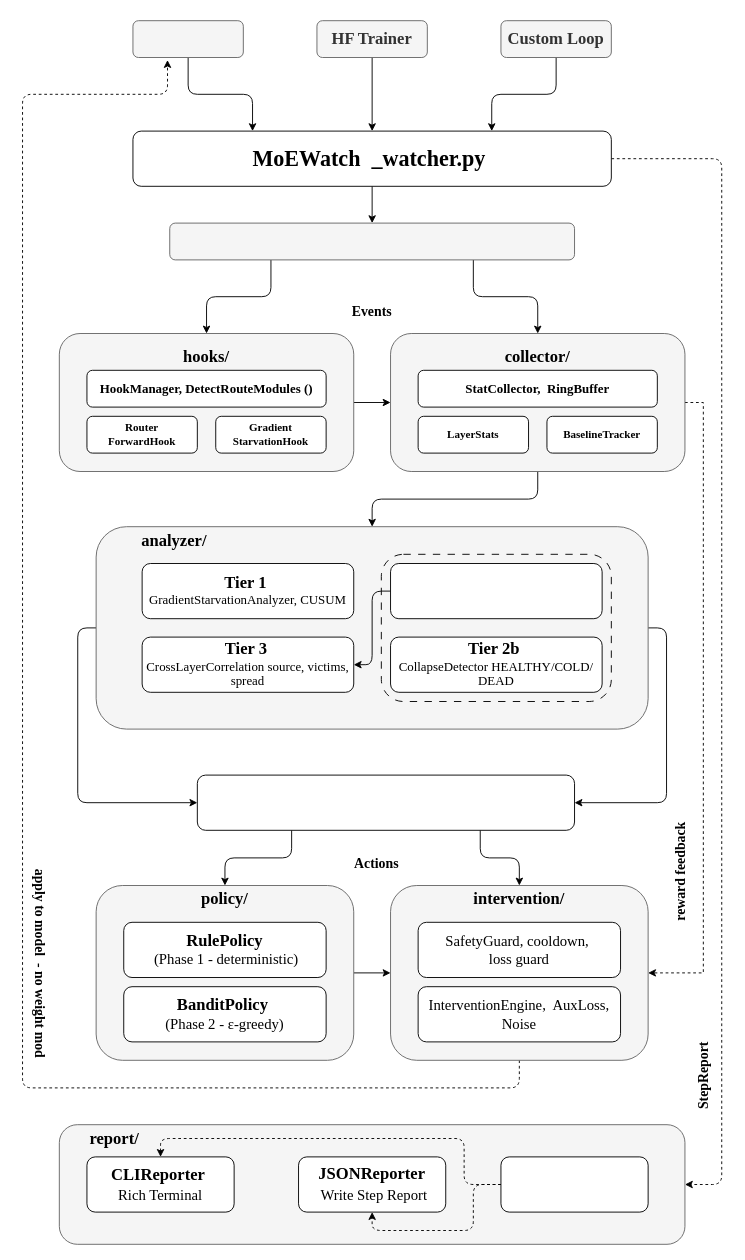
Image size: 745x1260. Some labels were removed from this diagram. The shapes that lost their labels are listed below. From the top down, each one's box as (x1, y1, x2, y2) in pixels, then its label:
(132, 20, 243, 58): MoE Model
(169, 222, 575, 260): WatchConfig | AlertLevel | OutputMode
(390, 563, 602, 619): Tier 2a EntropyAnalyzer CUSUM drift
(196, 774, 575, 830): RiskScoreFuser w0 x T1 + w1 x T2 + w2 x T3 | risk_score | LOW/MID/HIGH/CRITICAL
(500, 1156, 648, 1212): WatchReport
